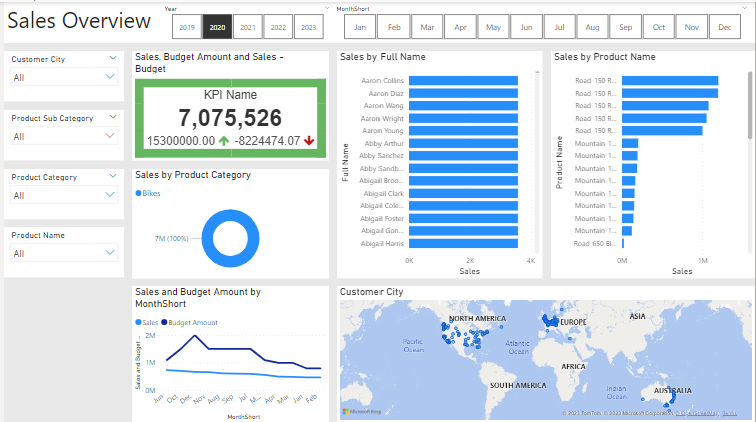

Layout of this report page (visuals, bound fields, positions):
{"tool":"powerbi","page":{"name":"Page 1","canvas":[1280,720],"ordinal":0},"visuals":[{"type":"textbox","box":[0,0,1280,69.7],"z":0},{"type":"slicer","fields":{"Values":["DIM_Customer.Customer City"]},"box":[0,83.7,205,86.4],"z":1000},{"type":"slicer","fields":{"Values":["DIM_Product.Product Sub Category"]},"box":[0,184.1,205,86.4],"z":2000},{"type":"slicer","fields":{"Values":["DIM_Product.Product Category"]},"box":[0,284.4,205,86.4],"z":3000},{"type":"slicer","fields":{"Values":["DIM_Product.Product Name"]},"box":[0,384.8,205,86.4],"z":4000},{"type":"slicer","fields":{"Values":["DIM_Calendar.Year"]},"box":[260.7,0,308.1,69.7],"z":5000},{"type":"slicer","fields":{"Values":["DIM_Calendar.MonthAbr"]},"box":[554.9,0,725.1,69.7],"z":6000},{"type":"donutChart","fields":{"Category":["DIM_Product.Product Category"],"Y":["FACT_InternetSales.Sales"]},"box":[218.9,284.4,336,186.8],"z":7000},{"type":"BBED0A4D4D8D44CE93CF2DAFADEE466C","fields":{"actual":["FACT_InternetSales.Sales"],"target1":["FACT_Budget.Budget Amount"],"target2":["FACT_Budget.Sales - Budget"]},"box":[218.9,83.7,336,186.8],"z":8000},{"type":"lineChart","fields":{"Y":["FACT_InternetSales.Sales","FACT_Budget.Budget Amount"],"Category":["DIM_Calendar.MonthAbr"]},"box":[218.9,485.2,336,234.2],"z":9000},{"type":"barChart","fields":{"Y":["FACT_InternetSales.Sales"],"Category":["DIM_Customer.Full Name"]},"box":[568.9,83.7,348.6,387.6],"z":10000},{"type":"barChart","fields":{"Y":["FACT_InternetSales.Sales"],"Category":["DIM_Product.Product Name"]},"box":[931.4,83.7,348.6,387.6],"z":11000},{"type":"map","fields":{"Category":["DIM_Customer.Customer City"]},"box":[568.9,485.2,711.1,234.2],"z":12000}]}

Visuals, with their boxes in screenshot pixels (x1, y1, x2, y2), scaled from the page's 1280x720 canvas onto the 756x422 screenshot:
textbox: <region>0, 0, 755, 41</region>
slicer - DIM_Customer.Customer City: <region>0, 49, 121, 100</region>
slicer - DIM_Product.Product Sub Category: <region>0, 108, 121, 159</region>
slicer - DIM_Product.Product Category: <region>0, 167, 121, 217</region>
slicer - DIM_Product.Product Name: <region>0, 226, 121, 276</region>
slicer - DIM_Calendar.Year: <region>154, 0, 336, 41</region>
slicer - DIM_Calendar.MonthAbr: <region>328, 0, 755, 41</region>
donutChart - DIM_Product.Product Category x FACT_InternetSales.Sales: <region>129, 167, 328, 276</region>
BBED0A4D4D8D44CE93CF2DAFADEE466C - FACT_InternetSales.Sales x FACT_Budget.Budget Amount: <region>129, 49, 328, 159</region>
lineChart - FACT_InternetSales.Sales x FACT_Budget.Budget Amount: <region>129, 284, 328, 421</region>
barChart - FACT_InternetSales.Sales x DIM_Customer.Full Name: <region>336, 49, 542, 276</region>
barChart - FACT_InternetSales.Sales x DIM_Product.Product Name: <region>550, 49, 755, 276</region>
map - DIM_Customer.Customer City: <region>336, 284, 755, 421</region>
